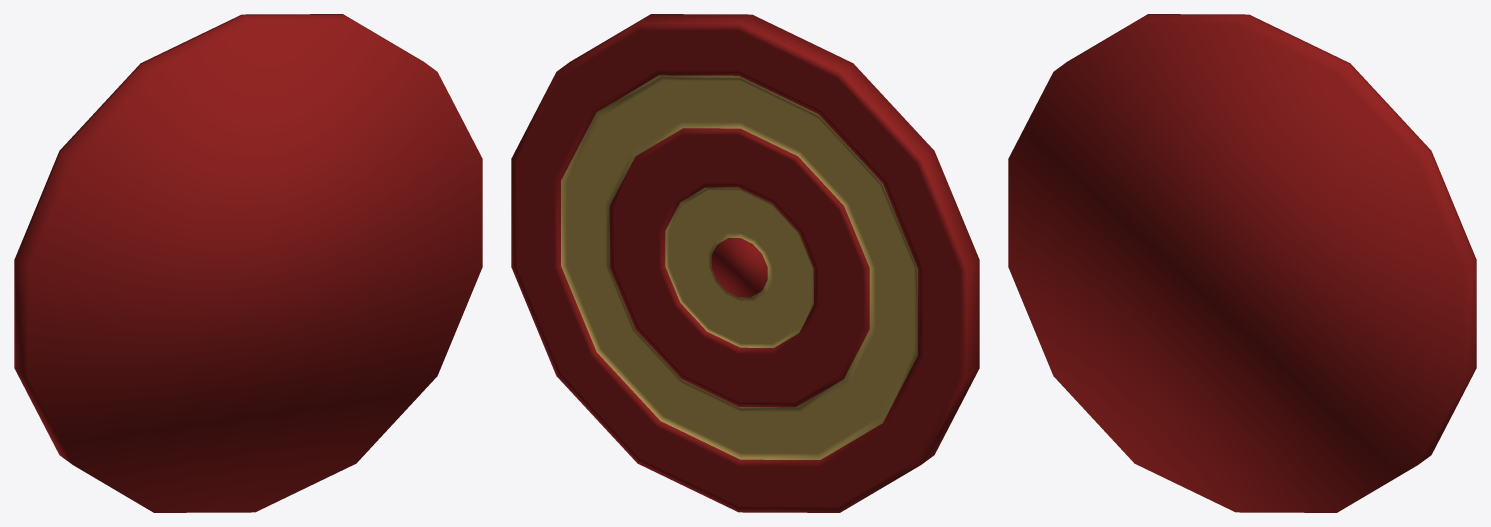
The model's file is Target.fbx.
3 renders of one model, left to right at view 1: azimuth 30°, elevation 25°; view 2: azimuth 150°, elevation 25°; view 3: azimuth 330°, elevation 25°, orthographic.
Parts seen in each view (by area): view 1: Target; view 2: Target; view 3: Target.
Part boxes in pixels (x1,y1,x2,y2): Target: (14, 14, 482, 512); Target: (511, 14, 979, 512); Target: (1008, 14, 1476, 512).
Size of the model in its own units: 1.3 by 0.067 by 1.33.
